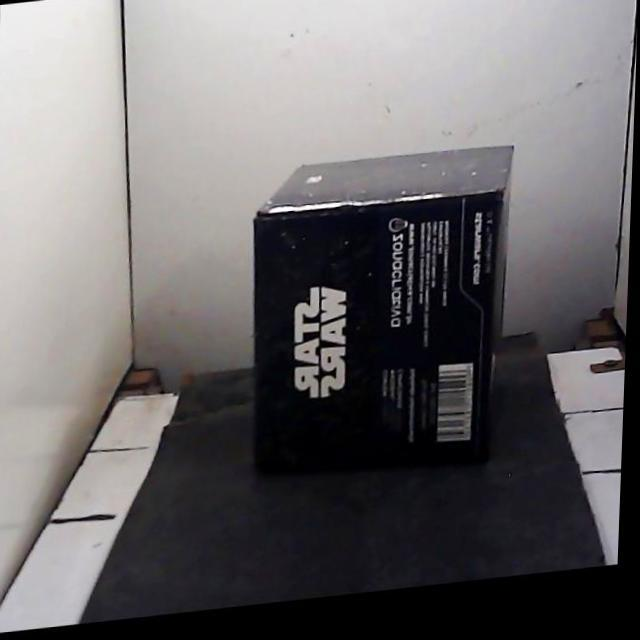papel: (254, 147, 512, 470)
